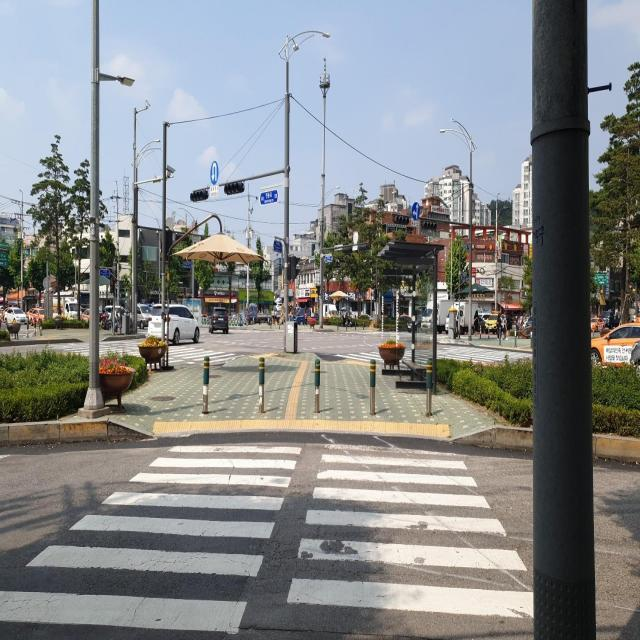횡단보도: (0, 438, 536, 636), (335, 338, 537, 372), (50, 336, 238, 367)
